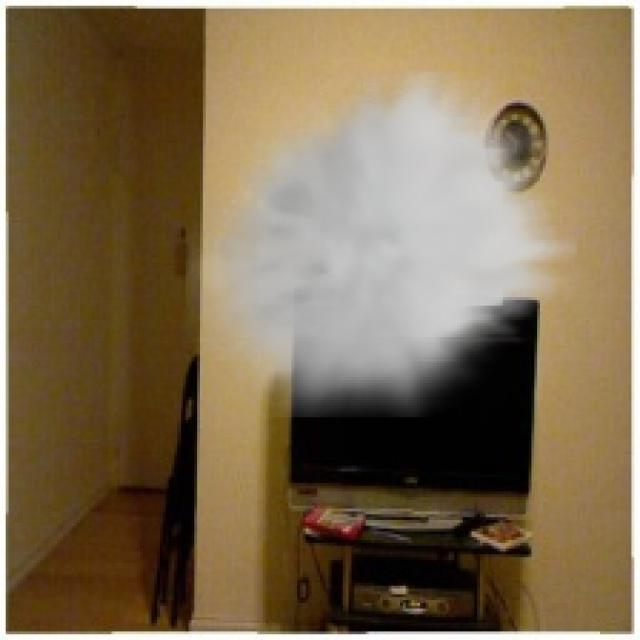Smoke: (185, 72, 578, 417)
